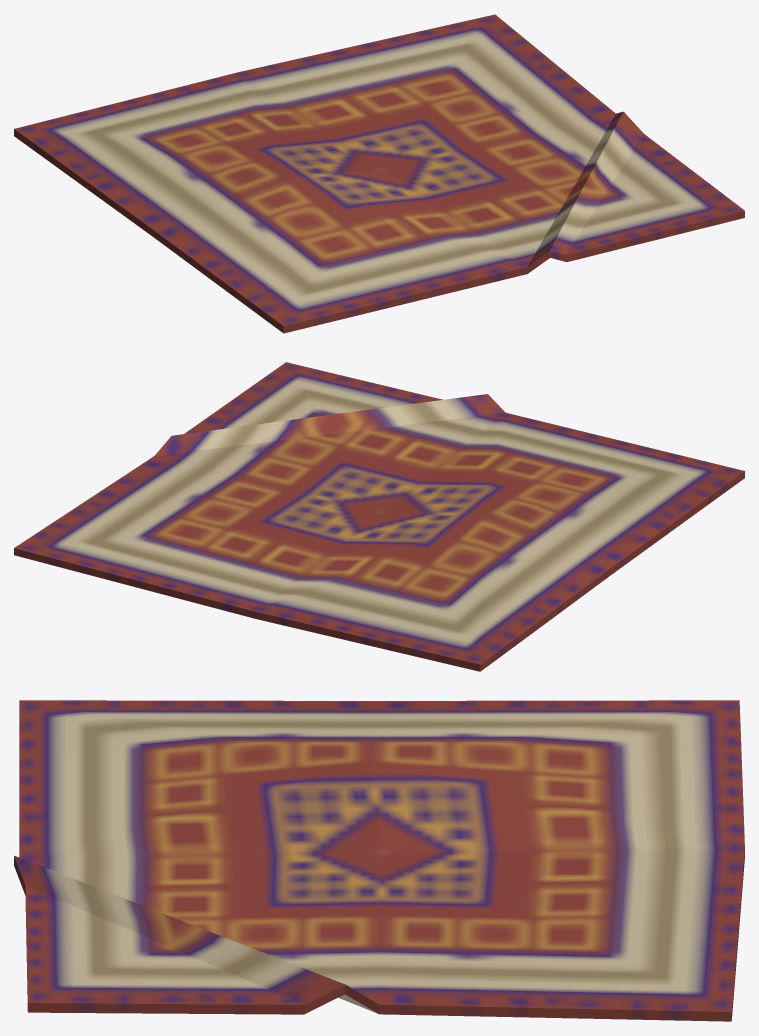
Rendered from SM_Prop_Rug_05.glb.
The picture shows the model from 3 angles, top to bottom: view 1: azimuth 30°, elevation 25°; view 2: azimuth 150°, elevation 25°; view 3: azimuth 270°, elevation 25°; orthographic projection. The views are drawn at different scales.
Visible parts, largest first — view 1: SM_Prop_Rug_05; view 2: SM_Prop_Rug_05; view 3: SM_Prop_Rug_05.
Part boxes in pixels (box(x1,y1,x2,y2)): SM_Prop_Rug_05: box(14, 14, 744, 333); SM_Prop_Rug_05: box(14, 362, 744, 671); SM_Prop_Rug_05: box(14, 700, 744, 1021).
Size of the model in its own units: 2.32 by 0.1199 by 2.29.
1 material, 1 textured.
